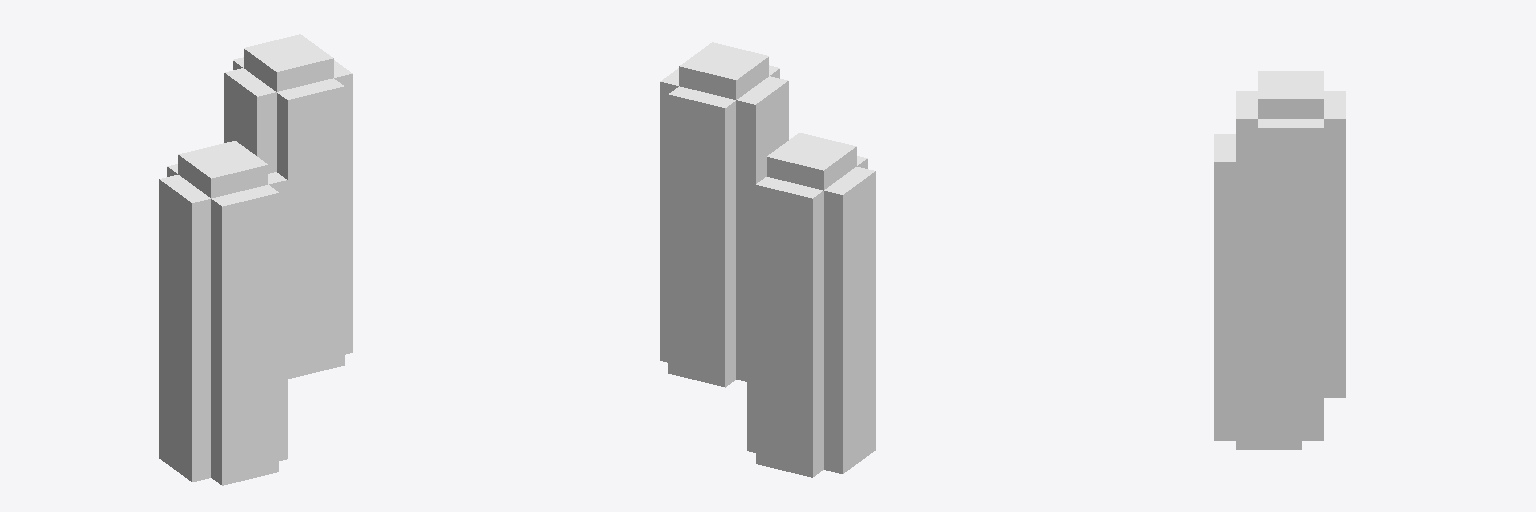
File: pile.obj
3 views of the same model, side by side, from view 1: azimuth 30°, elevation 25°; view 2: azimuth 150°, elevation 25°; view 3: azimuth 270°, elevation 25° (orthographic).
Bounding box in the file's own units: 9 × 19 × 6.